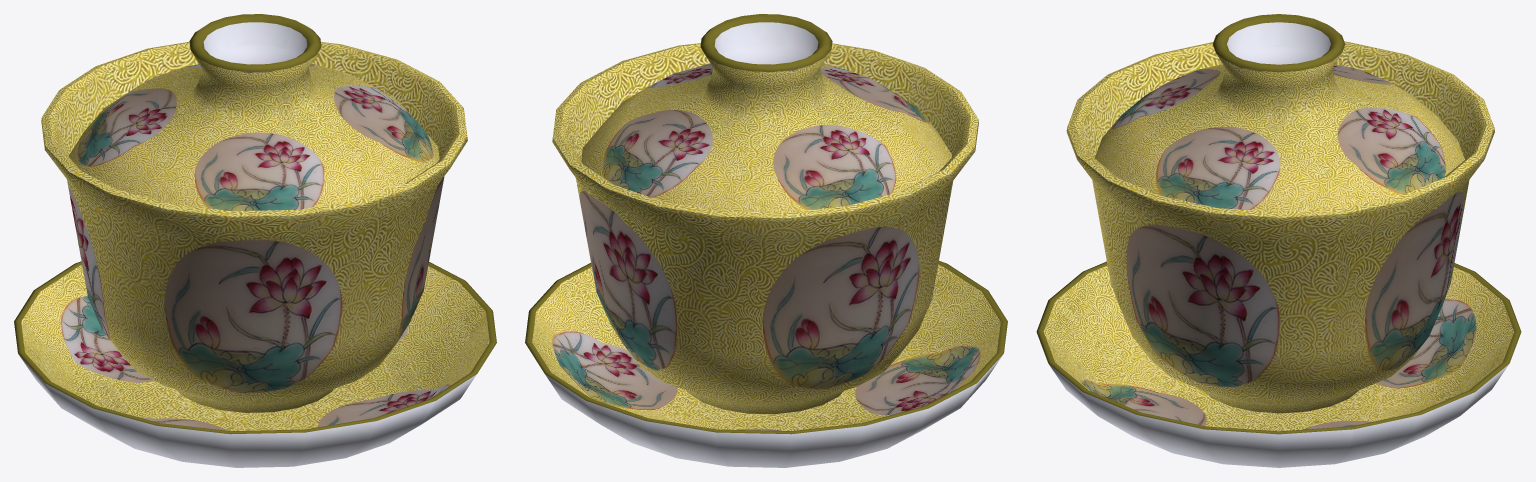
File: wan08_04.FBX
The picture shows the model from 3 angles, left to right: view 1: azimuth 30°, elevation 25°; view 2: azimuth 150°, elevation 25°; view 3: azimuth 270°, elevation 25°; orthographic projection.
Parts seen in each view (by area): view 1: pCylinder020, pCylinder021, pCylinder022; view 2: pCylinder020, pCylinder021, pCylinder022; view 3: pCylinder020, pCylinder021, pCylinder022.
Part boxes in pixels (box(x1,y1,x2,y2)): pCylinder020: box(41, 41, 467, 412); pCylinder021: box(68, 14, 439, 211); pCylinder022: box(14, 261, 496, 467); pCylinder020: box(552, 43, 978, 414); pCylinder021: box(581, 14, 951, 212); pCylinder022: box(525, 261, 1007, 467); pCylinder020: box(1066, 41, 1494, 413); pCylinder021: box(1095, 14, 1464, 212); pCylinder022: box(1036, 261, 1521, 467).
Bounding box in the file's own units: 119 × 101 × 119.
